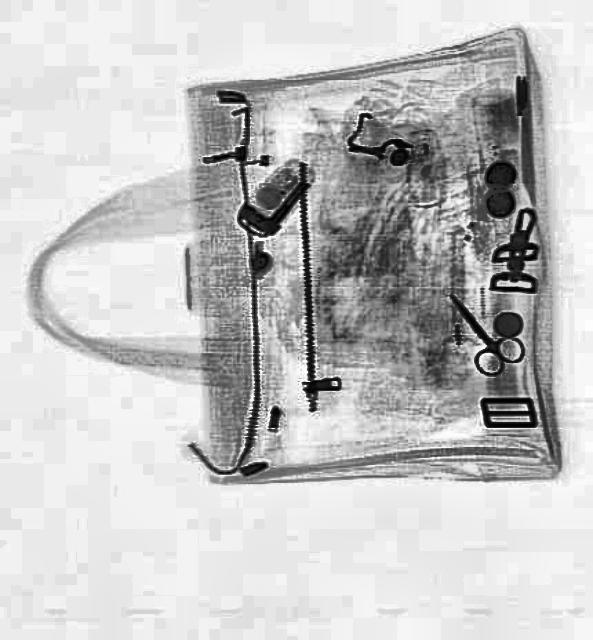Scissors: (430, 276, 528, 382)
